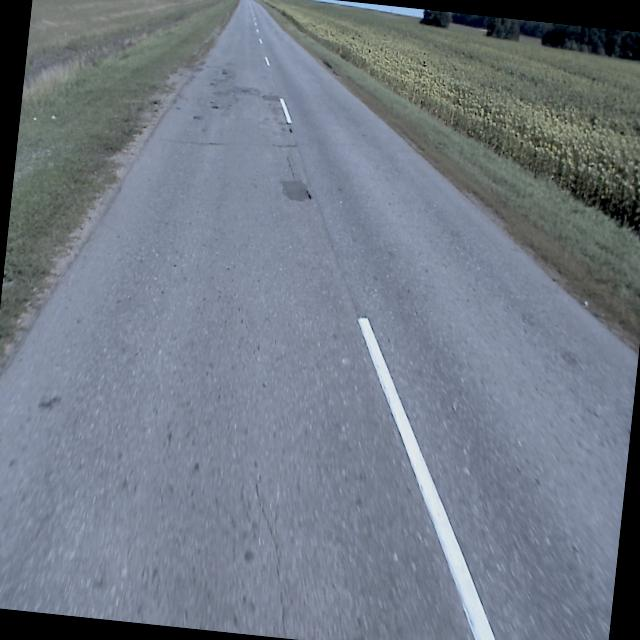road: (0, 0, 638, 640)
